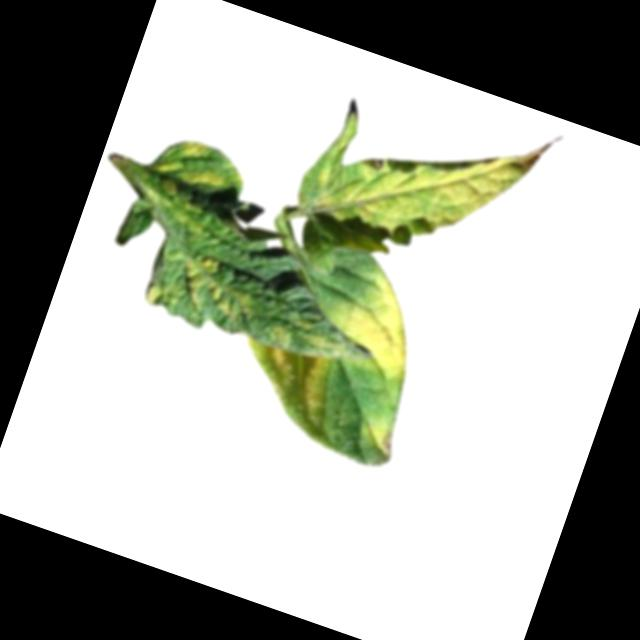Leaf_Mold: (297, 96, 529, 291), (315, 256, 436, 385), (216, 333, 338, 442), (175, 252, 263, 326), (152, 130, 233, 197), (289, 315, 350, 358), (353, 419, 398, 462), (265, 320, 294, 349), (140, 278, 166, 310)
